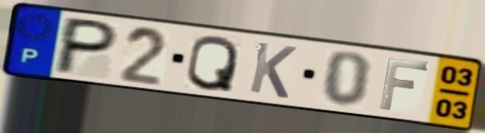0: (321, 49, 375, 110)
2: (115, 25, 171, 88)
F: (377, 56, 432, 112)
K: (246, 39, 300, 102)
P: (50, 14, 123, 76)
Q: (183, 34, 241, 94)
